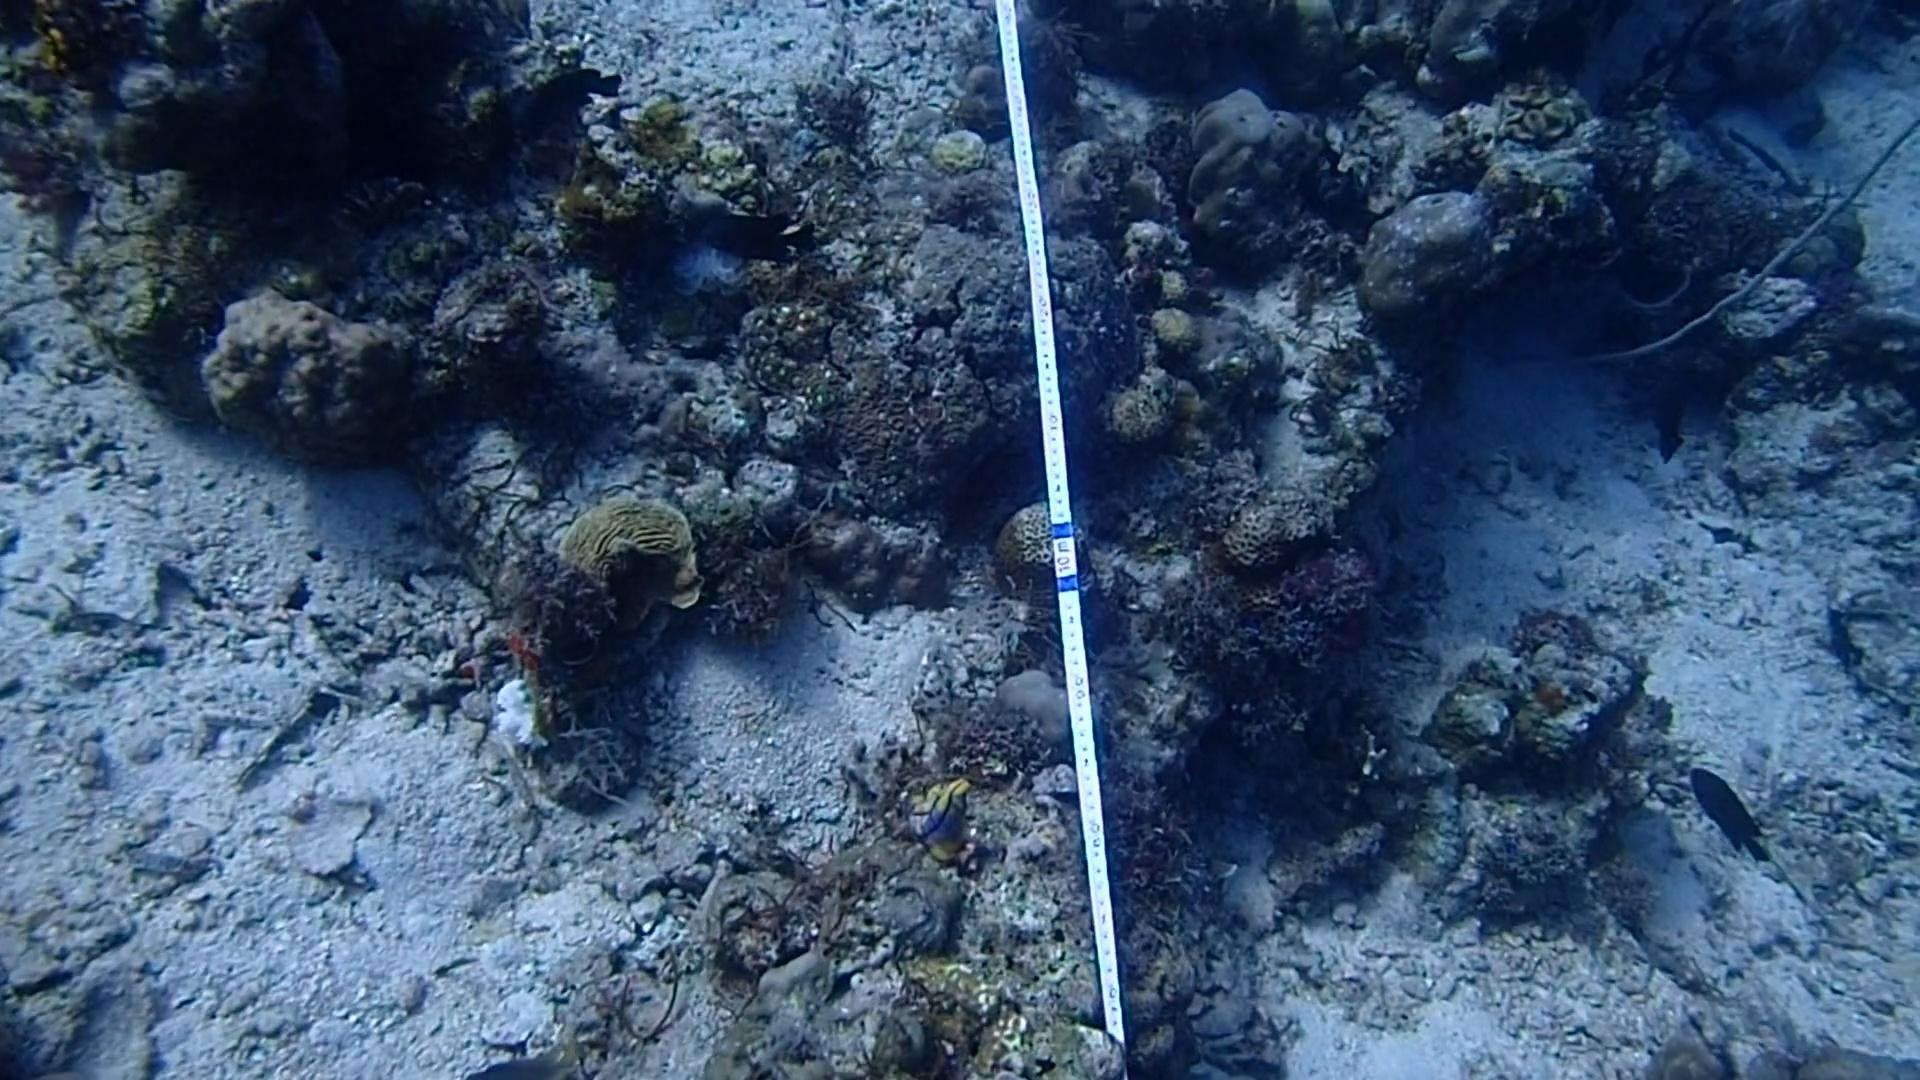Dark Fish: (1685, 753, 1779, 870), (688, 200, 819, 266), (516, 58, 629, 119), (1648, 361, 1702, 472)
Light Fish: (465, 1039, 578, 1080)
